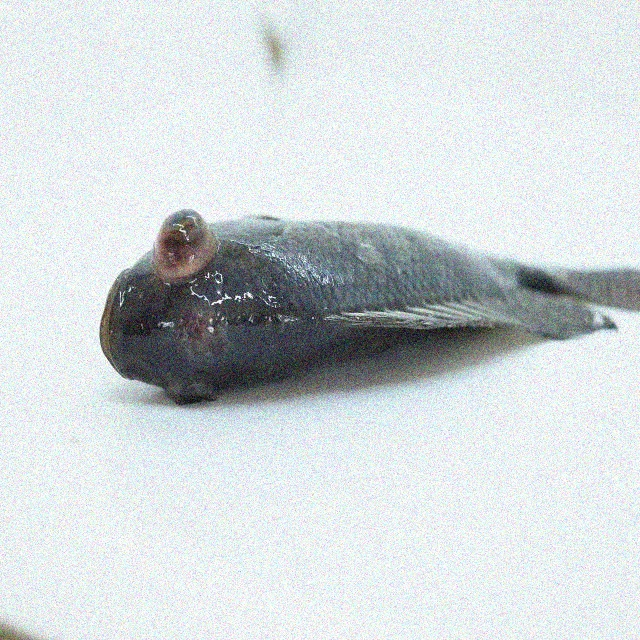streptococcus Disease: (98, 206, 635, 407)
